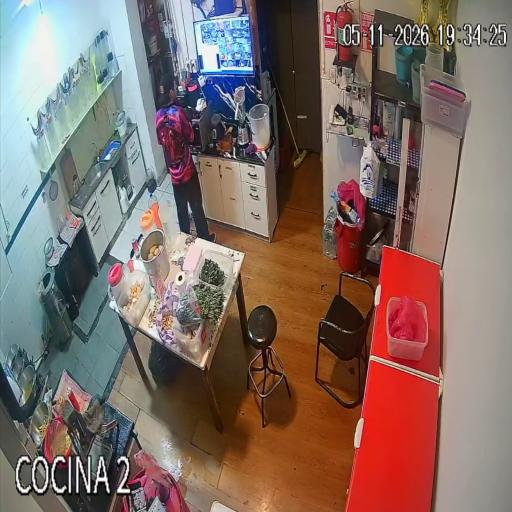Balde: (248, 103, 270, 150)
Envase Ketchup: (66, 387, 80, 411)
Envase Llajua: (59, 395, 65, 411)
Jarra1: (108, 263, 126, 300)
Jarra2: (141, 208, 157, 234)
Jarra3: (159, 199, 179, 247)
JarraLicuadora: (73, 174, 81, 195)
Microondas: (186, 104, 212, 151)
Persona1: (155, 75, 214, 240)
Taper: (194, 249, 237, 298)
Taper2: (172, 318, 208, 362)
Taper3: (116, 270, 151, 327)
Taper4: (386, 295, 428, 360)
Vaso1: (128, 259, 134, 272)
olla1: (140, 229, 169, 287)
